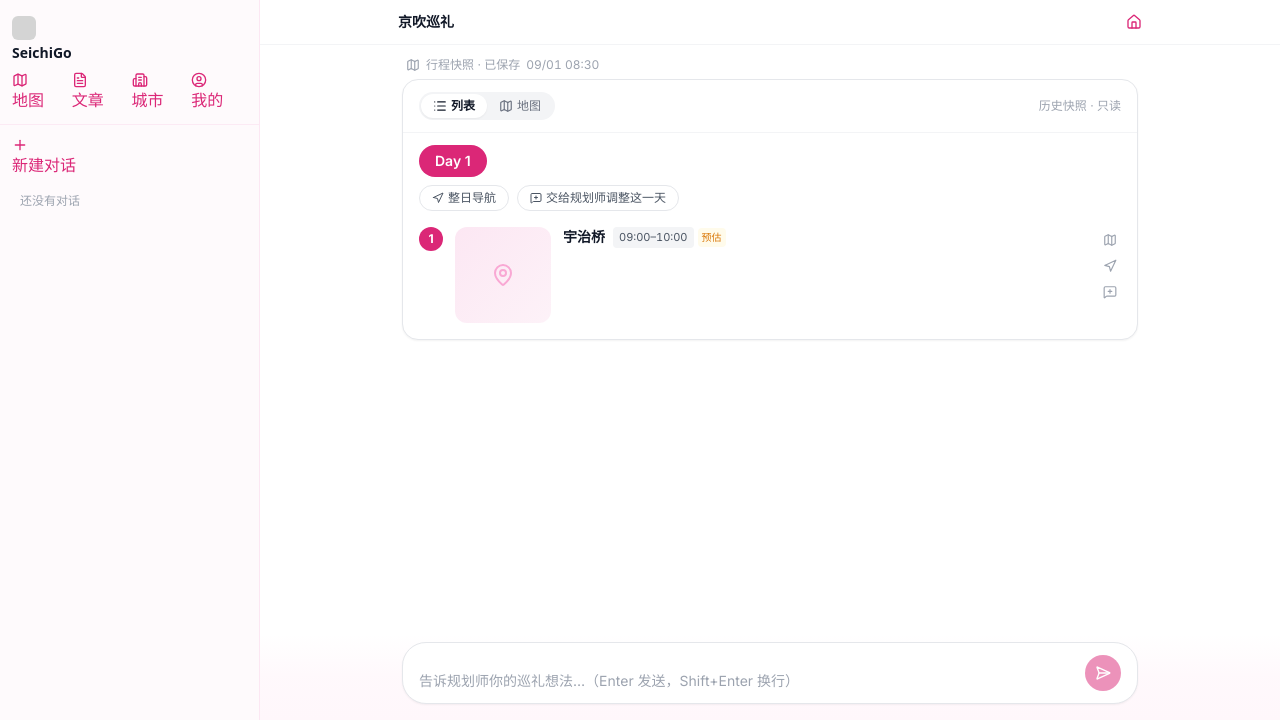
Test: PlanPlanner 聊天时间线（daymap 交付物） › DaymapCard「交给规划师调整」→ 预填输入框（含「基于」前缀）并聚焦，不自动发送
This screenshot has width=1280, height=720.
What coordinates should you click on to do the following:
click the button "交给规划师调整这一天"
I would click on:
 (598, 198)
Its box is x1=517 y1=185 x2=679 y2=211.
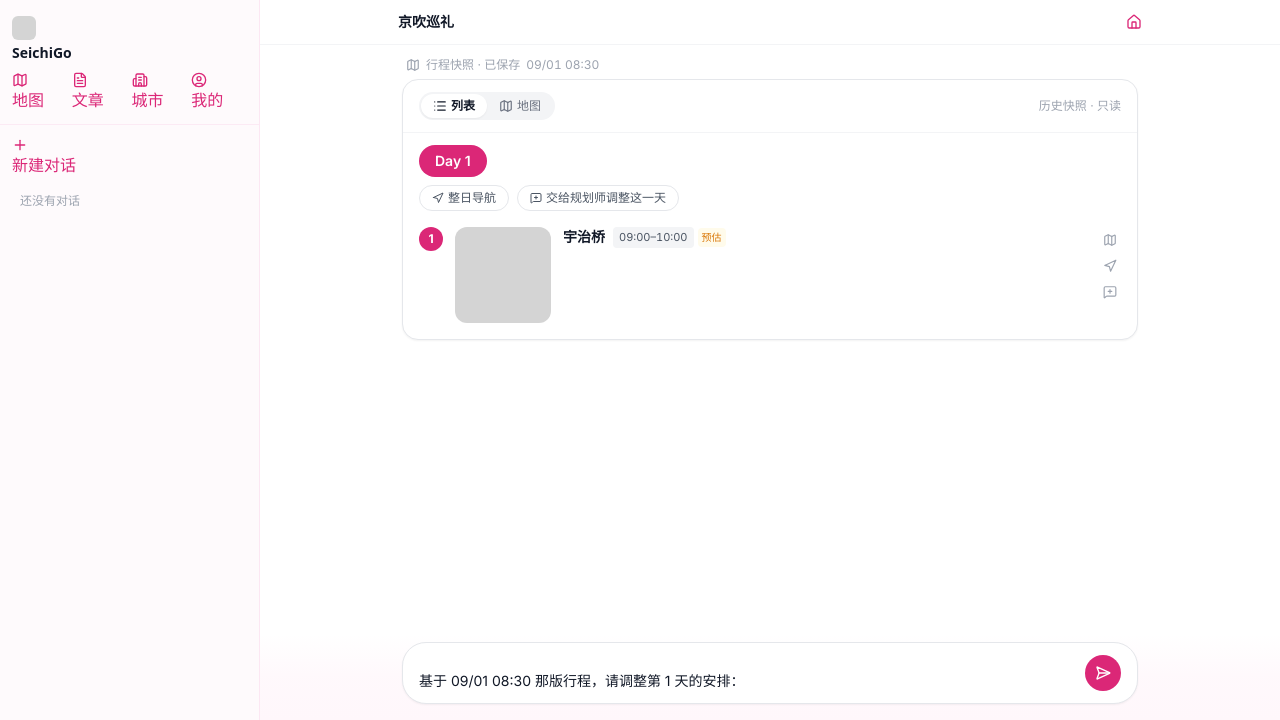
Expected: the text box is not empty, x1=419 y1=671 x2=1077 y2=691
